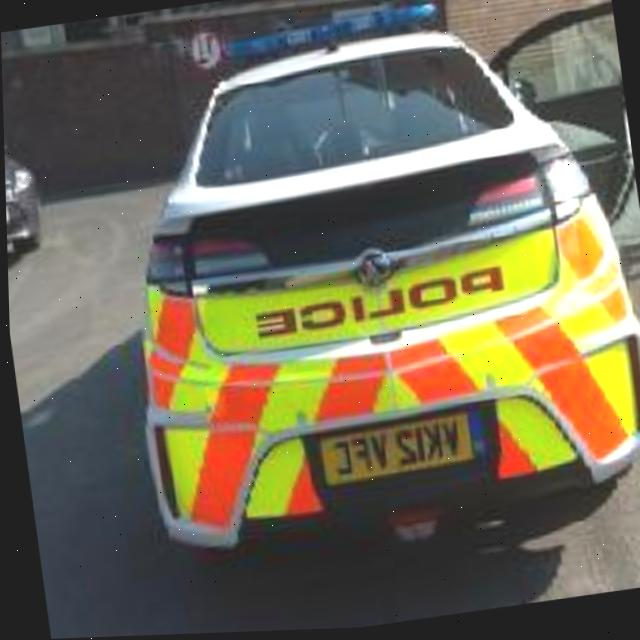emergency: (91, 0, 640, 572)
